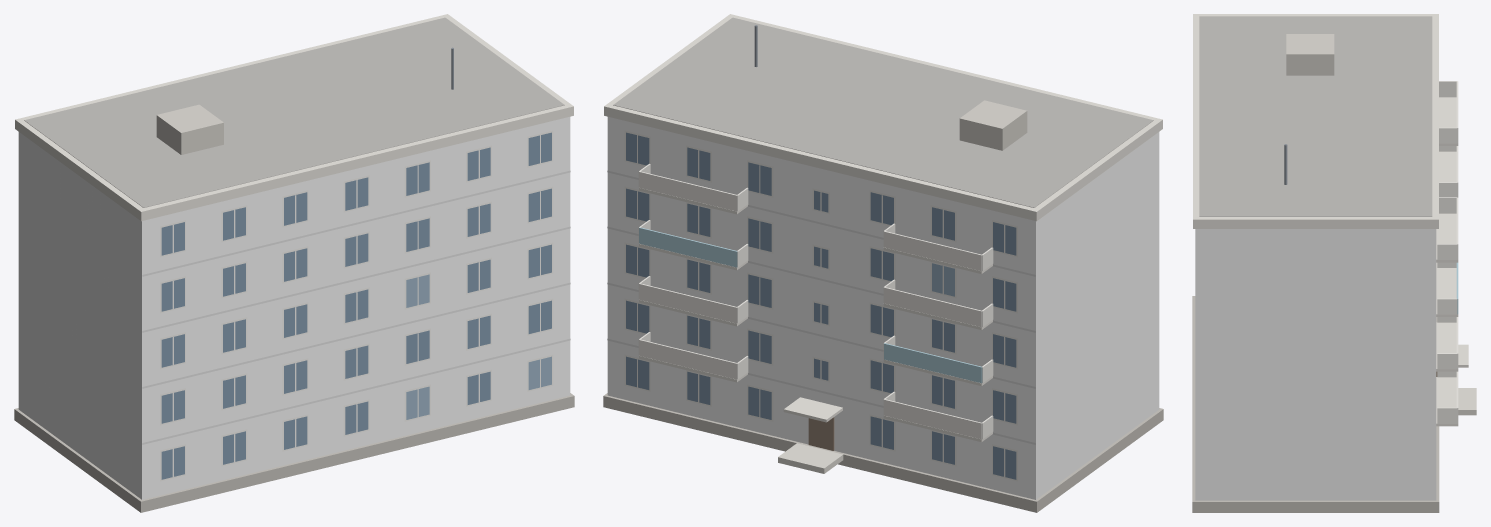
Rendered from khrushchevka_24.glb.
The picture shows the model from 3 angles, left to right: view 1: azimuth 30°, elevation 25°; view 2: azimuth 150°, elevation 25°; view 3: azimuth 270°, elevation 25°; orthographic projection. The views are drawn at different scales.
Visible parts, largest first — view 1: Khrushchevka24; view 2: Khrushchevka24; view 3: Khrushchevka24.
Part boxes in pixels (x1,y1,x2,y2): Khrushchevka24: [14, 14, 574, 512]; Khrushchevka24: [603, 14, 1163, 512]; Khrushchevka24: [1192, 14, 1476, 512].
Size of the model in its own units: 24.3 by 18.3 by 14.15.
